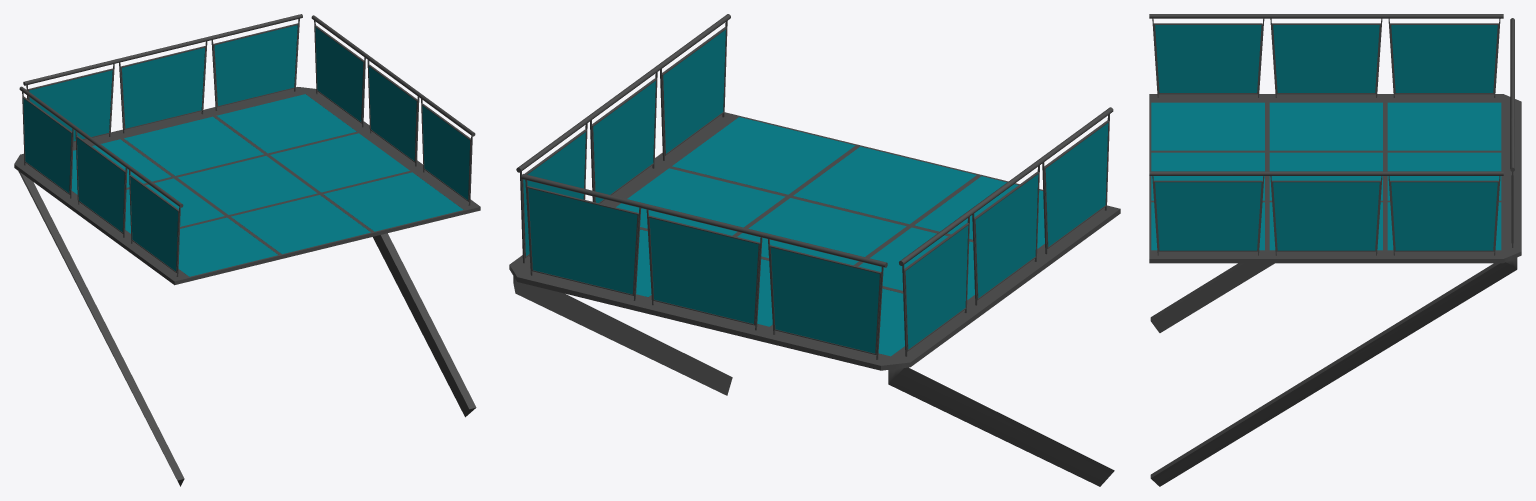
Rendered from terrace.glb.
3 views of the same model, side by side, from view 1: azimuth 30°, elevation 25°; view 2: azimuth 150°, elevation 25°; view 3: azimuth 270°, elevation 25° (orthographic). The views are drawn at different scales.
Visible parts, largest first — view 1: polySurface77, polySurface54, polySurface70; view 2: polySurface77, polySurface54, polySurface70; view 3: polySurface54, polySurface77, polySurface70.
Boxes of the visible parts, <box> form: polySurface77: <box>205,14,480,417</box>; polySurface54: <box>14,59,281,486</box>; polySurface70: <box>113,36,373,258</box>; polySurface77: <box>509,14,858,395</box>; polySurface54: <box>759,107,1120,486</box>; polySurface70: <box>638,145,979,340</box>; polySurface54: <box>1149,14,1521,332</box>; polySurface77: <box>1149,118,1521,486</box>; polySurface70: <box>1149,68,1521,201</box>.
Size of the model in its own units: 1214 by 1088 by 1158.
